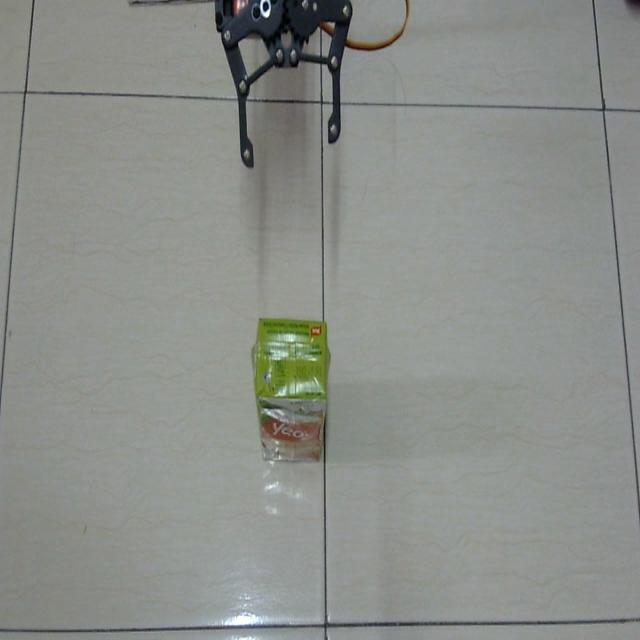Plastic-stand-rotation: (250, 308, 330, 458)
